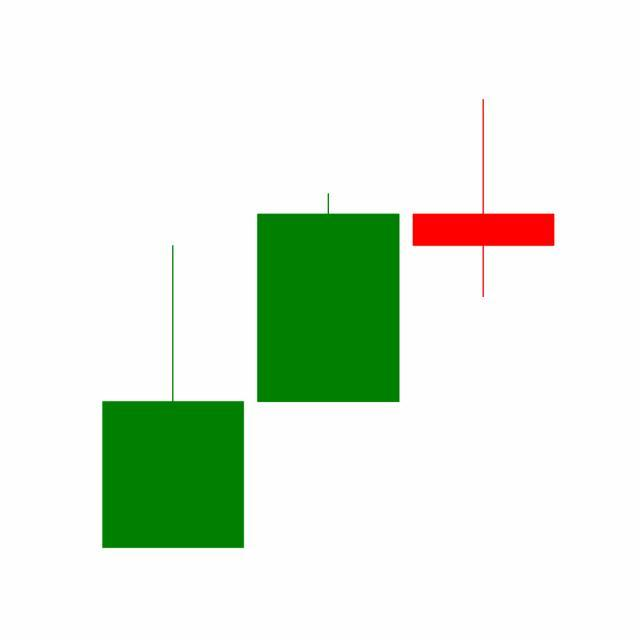Spinning Top: (406, 97, 562, 300)
